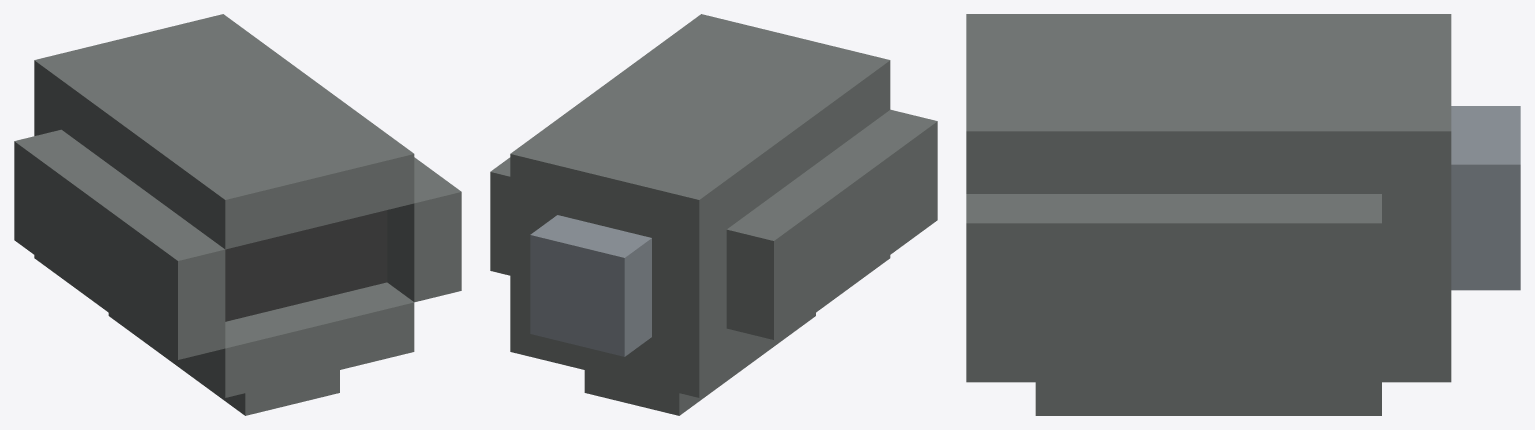
Rendered from cannon_top.obj.
The picture shows the model from 3 angles, left to right: view 1: azimuth 30°, elevation 25°; view 2: azimuth 150°, elevation 25°; view 3: azimuth 270°, elevation 25°; orthographic projection. The views are drawn at different scales.
Size of the model in its own units: 0.6 by 0.5 by 0.8.
Materials: 1 (1 with a texture image).
